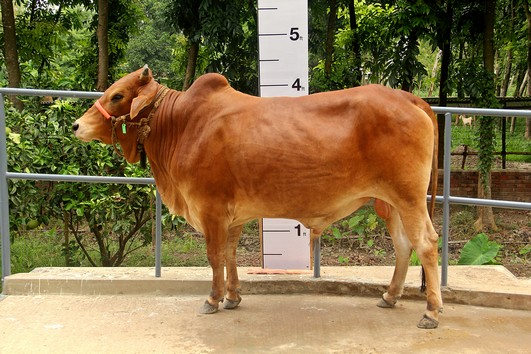cow: (59, 57, 457, 334)
